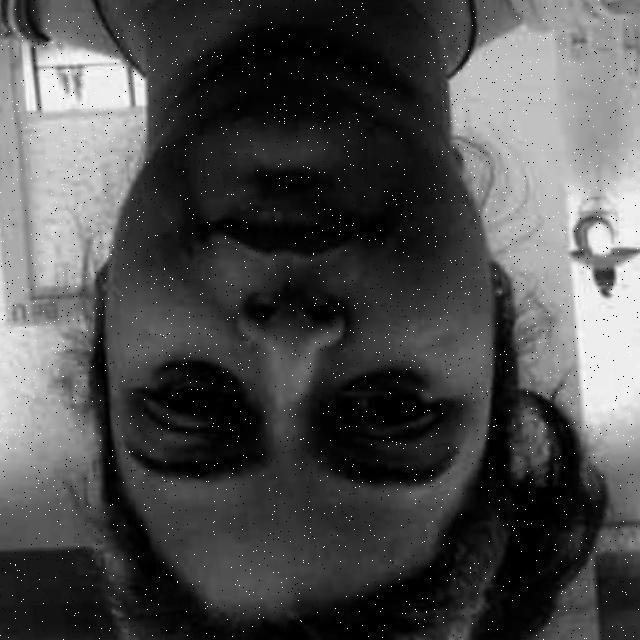puffy_eyes: (340, 368, 438, 400), (155, 365, 241, 387)
